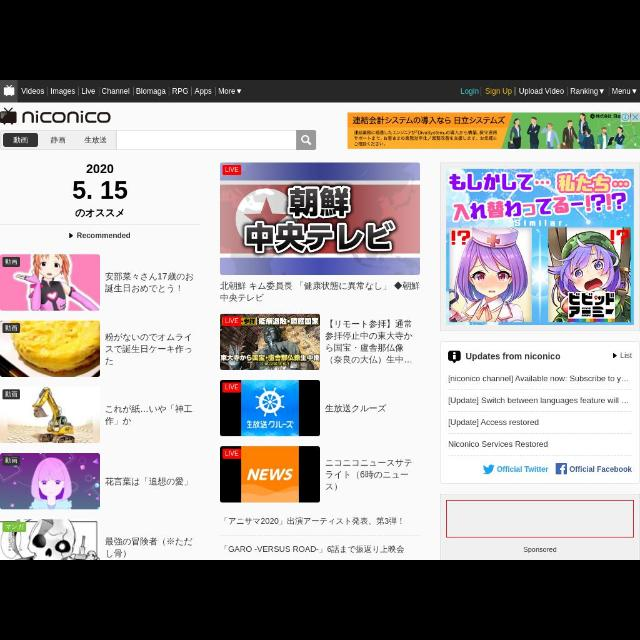icon: (4, 84, 15, 96), (302, 136, 314, 146), (238, 88, 242, 94), (600, 88, 604, 94), (632, 90, 638, 94)
iframe: (446, 169, 632, 325), (440, 494, 638, 558), (348, 110, 640, 150)
image: (220, 162, 422, 274), (1, 320, 98, 376), (2, 256, 100, 310), (2, 455, 96, 507), (1, 522, 98, 558), (2, 104, 112, 125)
input: (118, 130, 296, 150)
multitab: (1, 80, 640, 102)
spinner: (569, 87, 607, 97), (610, 85, 638, 98), (218, 86, 244, 95)
text: (220, 280, 418, 306), (326, 319, 414, 365), (103, 331, 195, 367), (326, 458, 412, 492), (448, 394, 628, 408), (106, 398, 196, 424), (104, 535, 196, 559), (102, 272, 196, 294), (448, 374, 630, 384), (224, 544, 404, 554), (224, 516, 402, 526), (103, 472, 195, 490), (448, 440, 550, 450), (464, 352, 560, 362), (446, 418, 542, 426), (324, 404, 388, 414), (496, 464, 548, 474), (518, 87, 564, 97), (570, 466, 632, 472), (82, 134, 108, 144), (50, 86, 76, 96), (102, 87, 130, 95), (484, 88, 512, 96), (20, 86, 44, 95), (48, 134, 68, 144), (459, 86, 479, 96), (611, 87, 631, 97), (136, 88, 166, 94), (570, 88, 598, 94), (194, 86, 212, 95), (12, 134, 28, 144), (172, 86, 188, 96), (82, 87, 96, 95), (218, 88, 234, 94)
textbutton: (2, 134, 38, 146)
